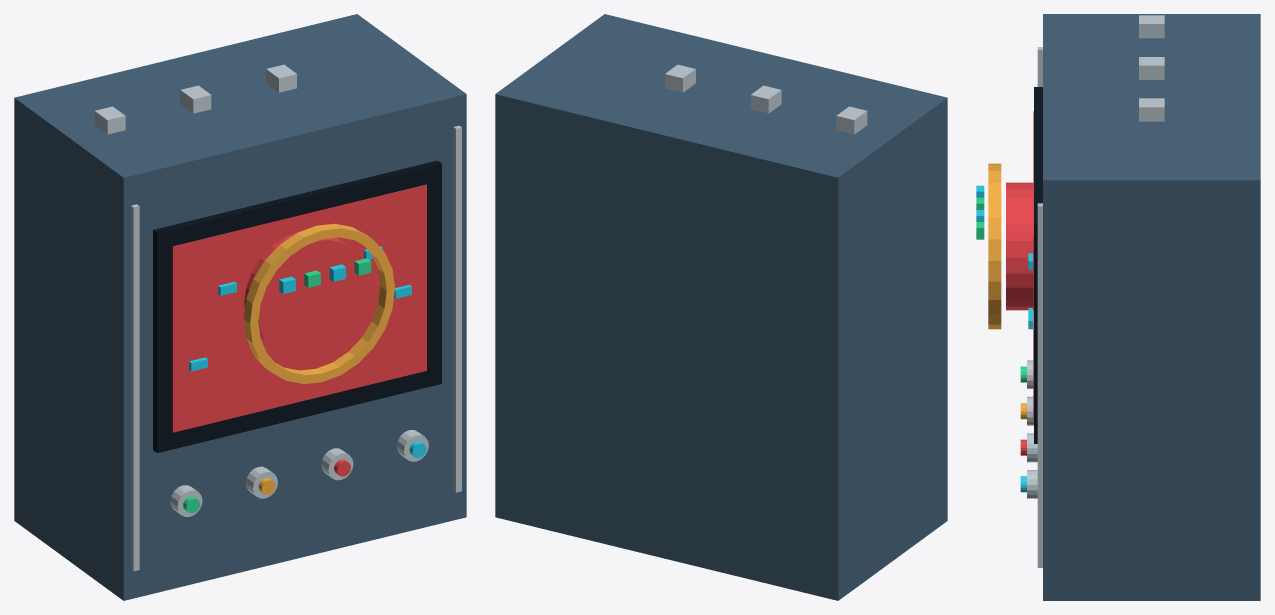
Rendered from 62_L79_CriticalMotionSafetyStation.fbx.
3 renders of one model, left to right at view 1: azimuth 30°, elevation 25°; view 2: azimuth 150°, elevation 25°; view 3: azimuth 270°, elevation 25°, orthographic.
Parts seen in each view (by area): view 1: CriticalMotionSafetyStation; view 2: CriticalMotionSafetyStation; view 3: CriticalMotionSafetyStation.
Boxes of the visible parts, bbox=[...] form: CriticalMotionSafetyStation: bbox=[14, 14, 466, 600]; CriticalMotionSafetyStation: bbox=[495, 14, 947, 600]; CriticalMotionSafetyStation: bbox=[976, 14, 1260, 600].
Size of the model in its own units: 123 by 150 by 88.75.
